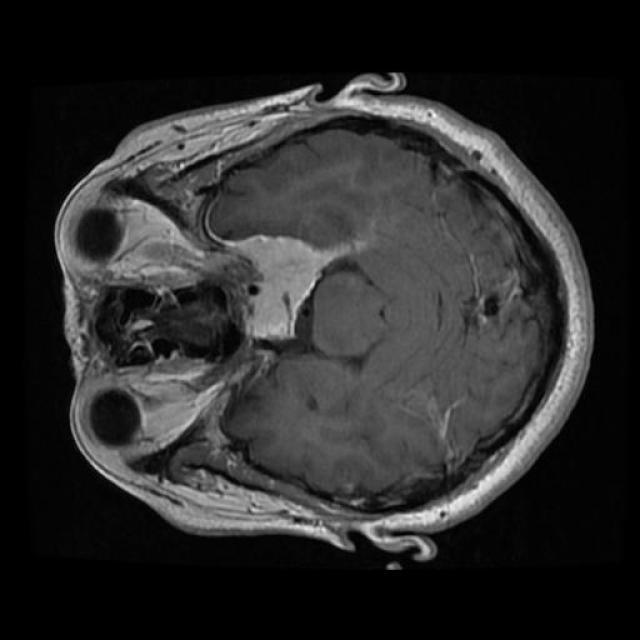Meningioma: (232, 235, 339, 339)
